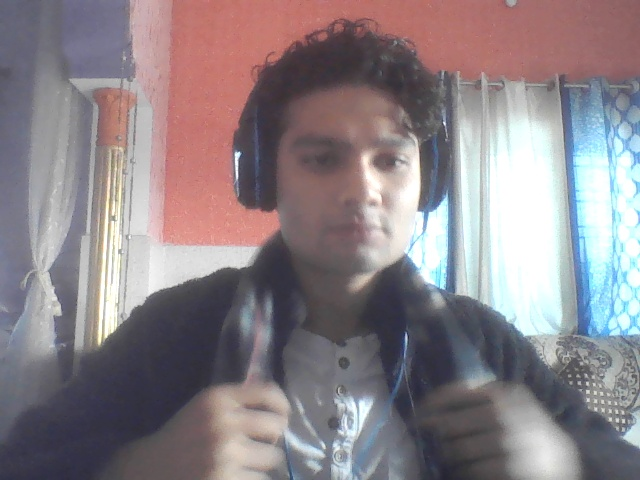real: (246, 21, 440, 296)
